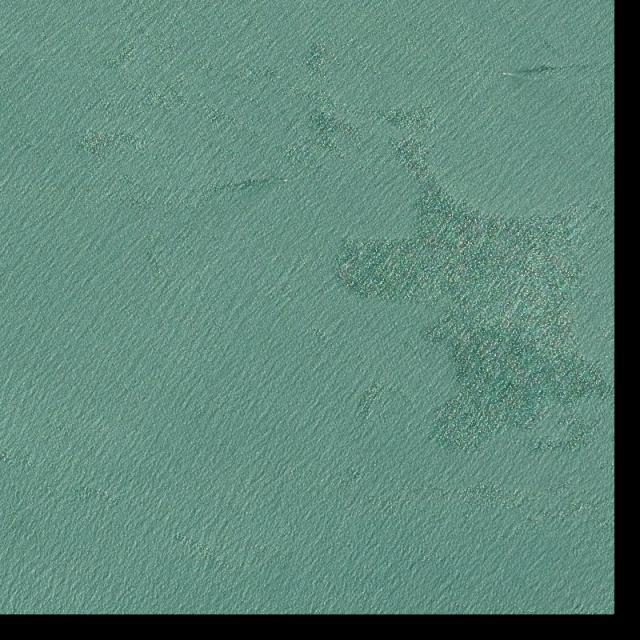ship: (282, 179, 290, 182), (502, 72, 507, 76)
